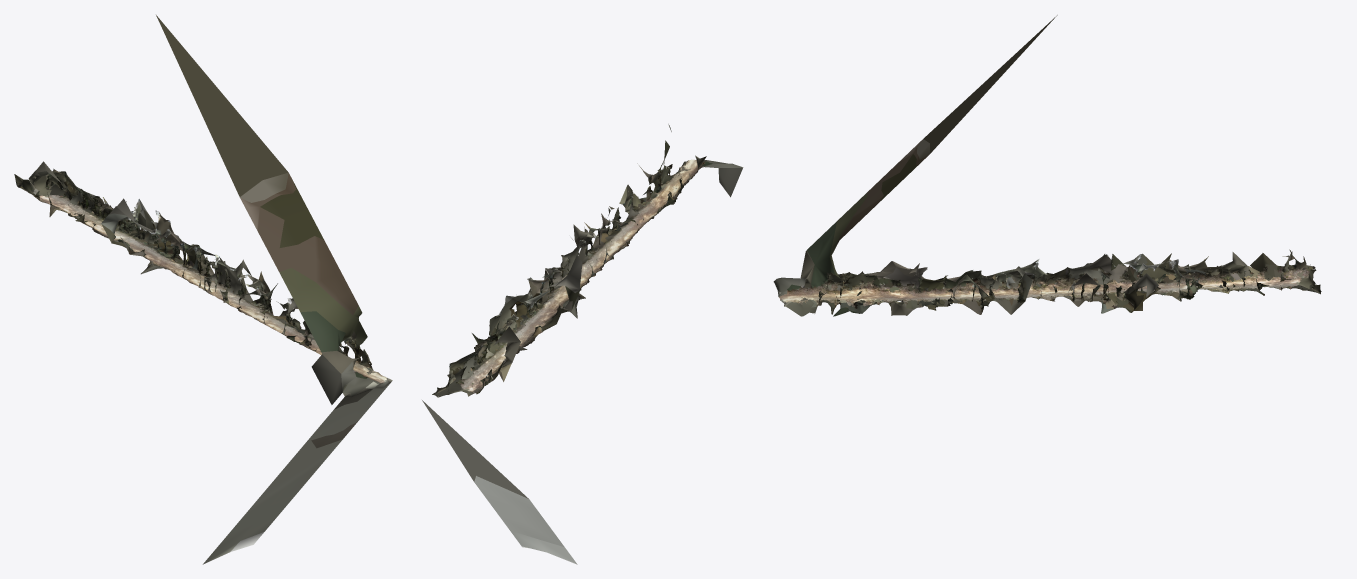
The picture shows the model from 3 angles, left to right: view 1: azimuth 30°, elevation 25°; view 2: azimuth 150°, elevation 25°; view 3: azimuth 270°, elevation 25°; orthographic projection. The views are drawn at different scales.
Parts seen in each view (by area): view 1: Mesh_0_Part_0.003; view 2: Mesh_0_Part_0.003; view 3: Mesh_0_Part_0.003.
Part boxes in pixels (left/top/right/bottom): Mesh_0_Part_0.003: left=14, top=15, right=392, bottom=564; Mesh_0_Part_0.003: left=422, top=124, right=743, bottom=564; Mesh_0_Part_0.003: left=773, top=15, right=1321, bottom=316.
Size of the model in its own units: 0.2091 by 1.14 by 1.15.
1 material, 1 textured.
